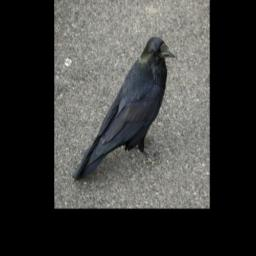Crow: (72, 36, 177, 184)
